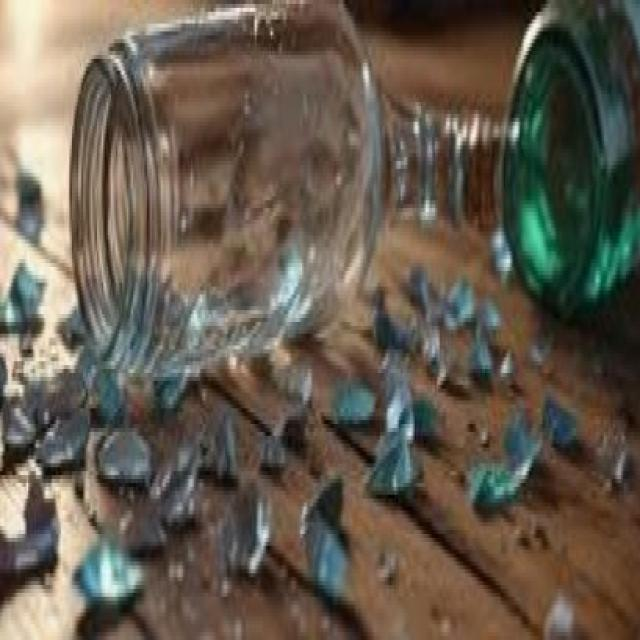electronic: (68, 0, 388, 382), (499, 0, 640, 318)
